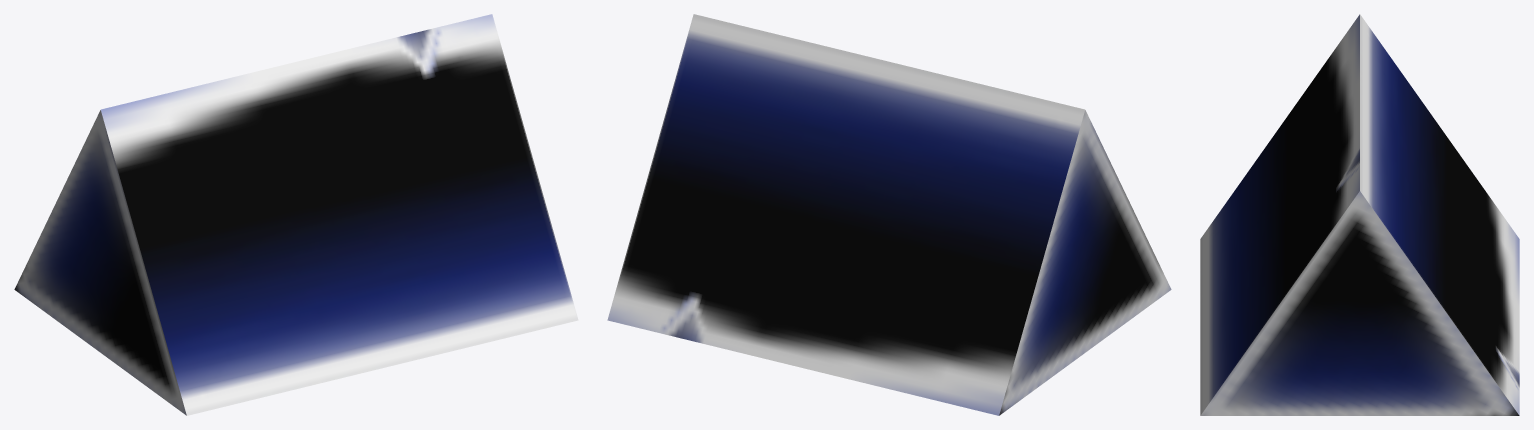
Rendered from rint.glb.
3 renders of one model, left to right at view 1: azimuth 30°, elevation 25°; view 2: azimuth 150°, elevation 25°; view 3: azimuth 270°, elevation 25°, orthographic. The views are drawn at different scales.
Visible parts, largest first — view 1: Plane.003; view 2: Plane.003; view 3: Plane.003.
Part boxes in pixels (<box>): Plane.003: <box>14,14,578,415</box>; Plane.003: <box>607,14,1171,415</box>; Plane.003: <box>1200,14,1519,415</box>.
Size of the model in its own units: 1.43 by 0.8484 by 1.09.
1 material, 1 textured.
